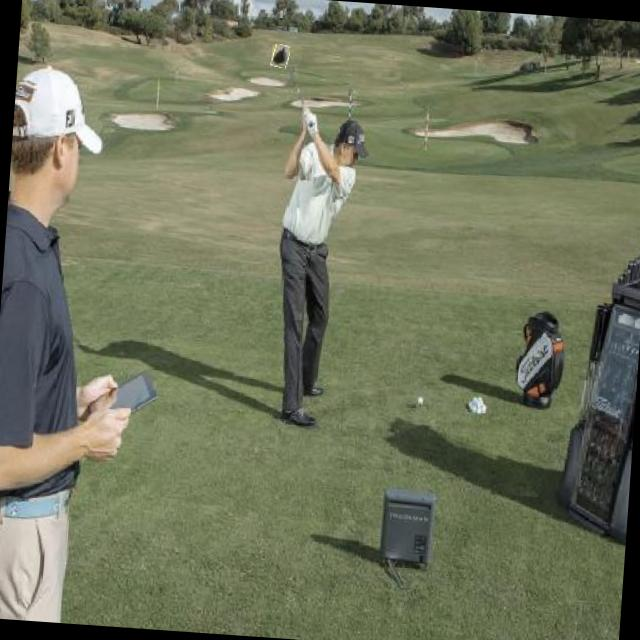club head: (270, 44, 290, 67)
